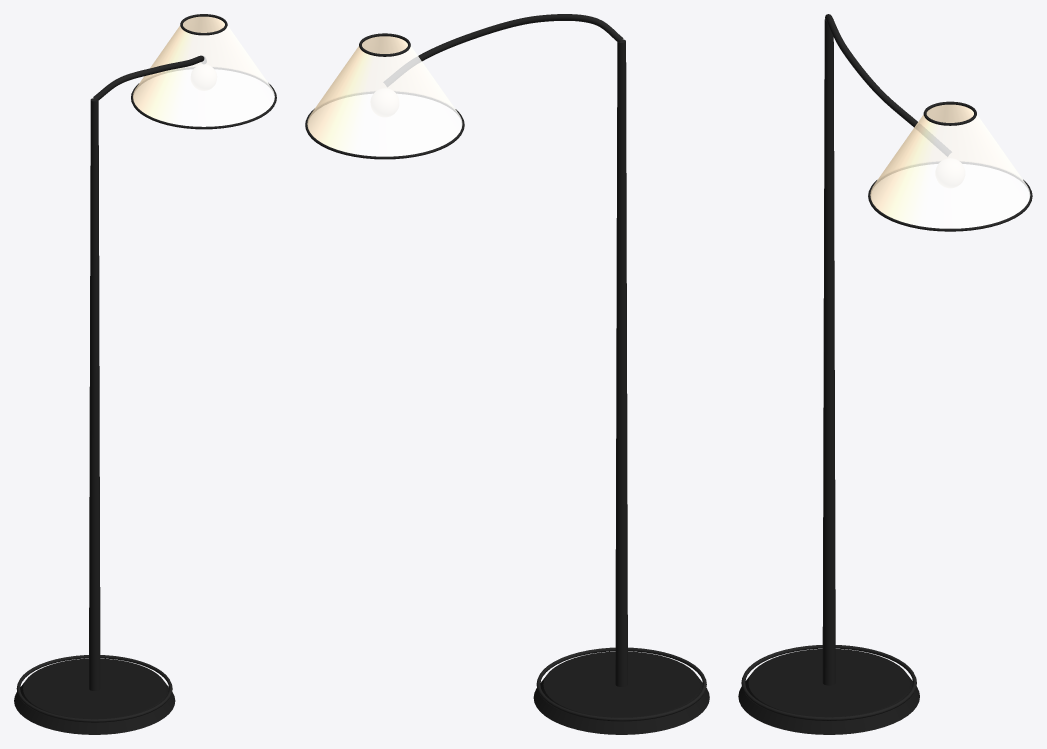
File: floor-lamp.glb
The picture shows the model from 3 angles, left to right: view 1: azimuth 30°, elevation 25°; view 2: azimuth 150°, elevation 25°; view 3: azimuth 270°, elevation 25°; orthographic projection. The views are drawn at different scales.
Bounding box in the file's own units: 0.763 × 1.52 × 0.583.
